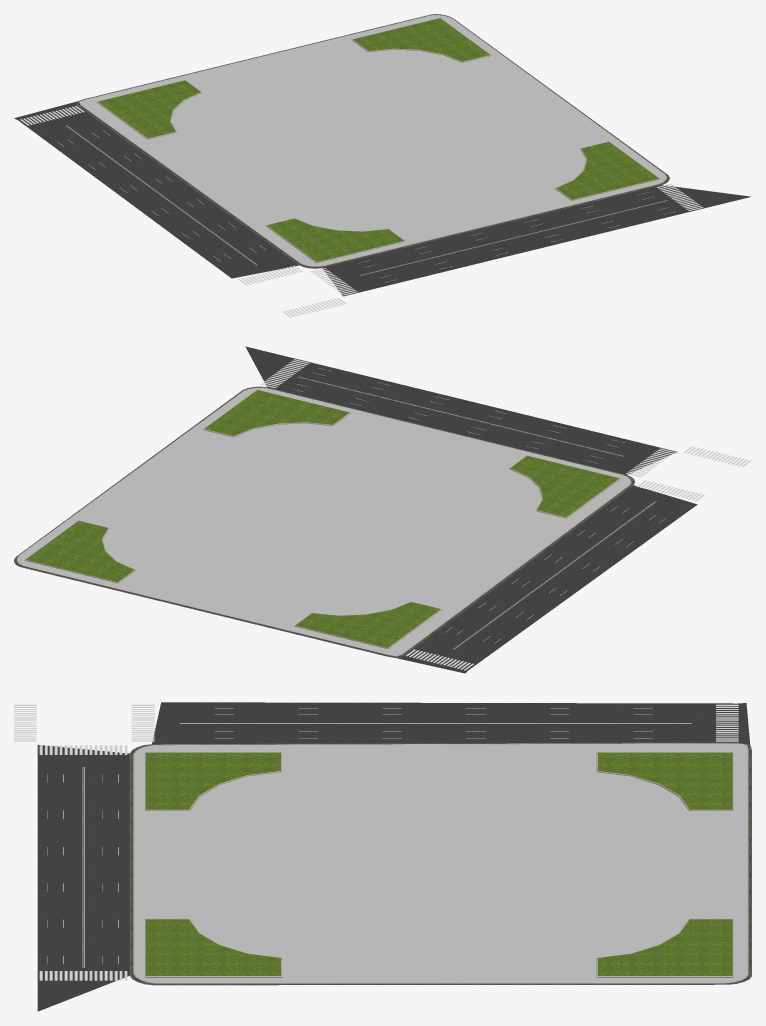
File: Island_Area_05.fbx
3 views of the same model, one above another, from view 1: azimuth 30°, elevation 25°; view 2: azimuth 150°, elevation 25°; view 3: azimuth 270°, elevation 25° (orthographic). The views are drawn at different scales.
Parts seen in each view (by area): view 1: Island_Area_05, Terrain_NY_Asphalt.032, Terrain_NY_Marking.022, Terrain_NY_Marking.028; view 2: Island_Area_05, Terrain_NY_Asphalt.032, Terrain_NY_Marking.022, Terrain_NY_Marking.028; view 3: Island_Area_05, Terrain_NY_Asphalt.032, Terrain_NY_Marking.022, Terrain_NY_Marking.028.
Boxes of the visible parts, x1=… form: Island_Area_05: x1=76, y1=14, x2=669, y2=268; Terrain_NY_Asphalt.032: x1=14, y1=102, x2=751, y2=296; Terrain_NY_Marking.022: x1=20, y1=105, x2=346, y2=317; Terrain_NY_Marking.028: x1=311, y1=184, x2=703, y2=295; Island_Area_05: x1=14, y1=386, x2=634, y2=658; Terrain_NY_Asphalt.032: x1=245, y1=346, x2=697, y2=673; Terrain_NY_Marking.022: x1=406, y1=446, x2=751, y2=670; Terrain_NY_Marking.028: x1=260, y1=359, x2=675, y2=477; Island_Area_05: x1=129, y1=742, x2=751, y2=985; Terrain_NY_Asphalt.032: x1=37, y1=702, x2=749, y2=1011; Terrain_NY_Marking.022: x1=14, y1=704, x2=738, y2=741; Terrain_NY_Marking.028: x1=39, y1=745, x2=127, y2=980.
Bounding box in the file's own units: 13109 × 31.09 × 13213.
